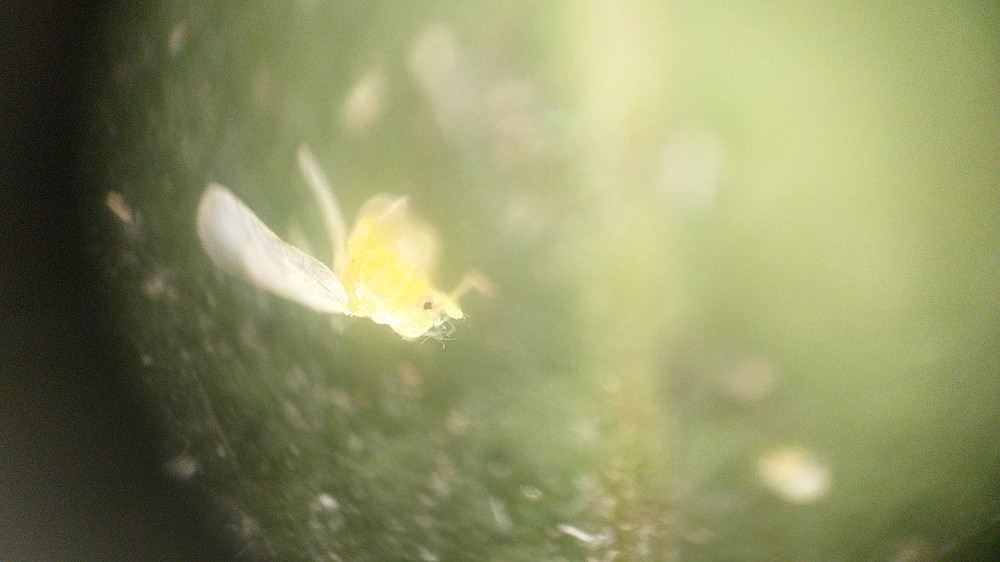Mosca Blanca: (191, 120, 512, 386)
